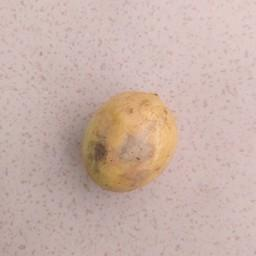Bad_lime: (77, 90, 181, 194)
